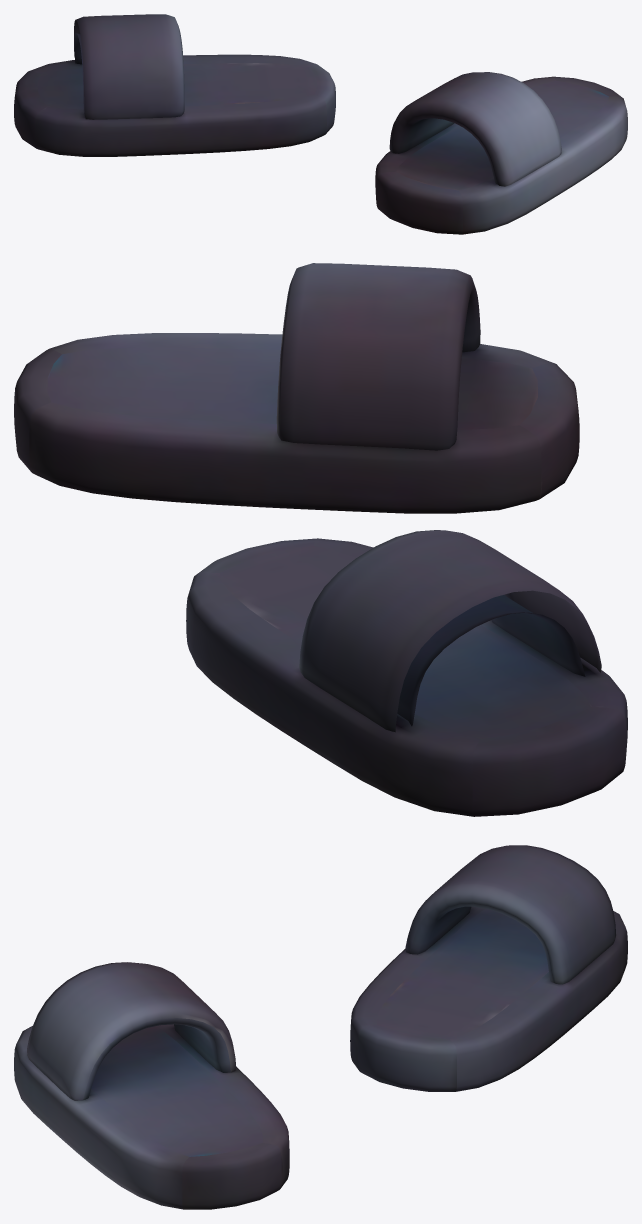
File: slippers.glb
3 renders of one model, top to bottom at view 1: azimuth 30°, elevation 25°; view 2: azimuth 150°, elevation 25°; view 3: azimuth 270°, elevation 25°, orthographic. The views are drawn at different scales.
Parts seen in each view (by area): view 1: Slipper_2_Fourth_Hover_Raycaster, Slipper_1_Fourth_Hover_Raycaster; view 2: Slipper_1_Fourth_Hover_Raycaster, Slipper_2_Fourth_Hover_Raycaster; view 3: Slipper_1_Fourth_Hover_Raycaster, Slipper_2_Fourth_Hover_Raycaster.
Boxes of the visible parts, x1,y1,x2,y2 form: Slipper_2_Fourth_Hover_Raycaster: [14, 14, 335, 156]; Slipper_1_Fourth_Hover_Raycaster: [375, 72, 627, 234]; Slipper_1_Fourth_Hover_Raycaster: [14, 263, 579, 513]; Slipper_2_Fourth_Hover_Raycaster: [186, 530, 627, 816]; Slipper_1_Fourth_Hover_Raycaster: [14, 962, 289, 1209]; Slipper_2_Fourth_Hover_Raycaster: [350, 845, 627, 1091].
Bounding box in the file's own units: 1.48 × 0.3115 × 1.38.
1 material, 1 textured.
